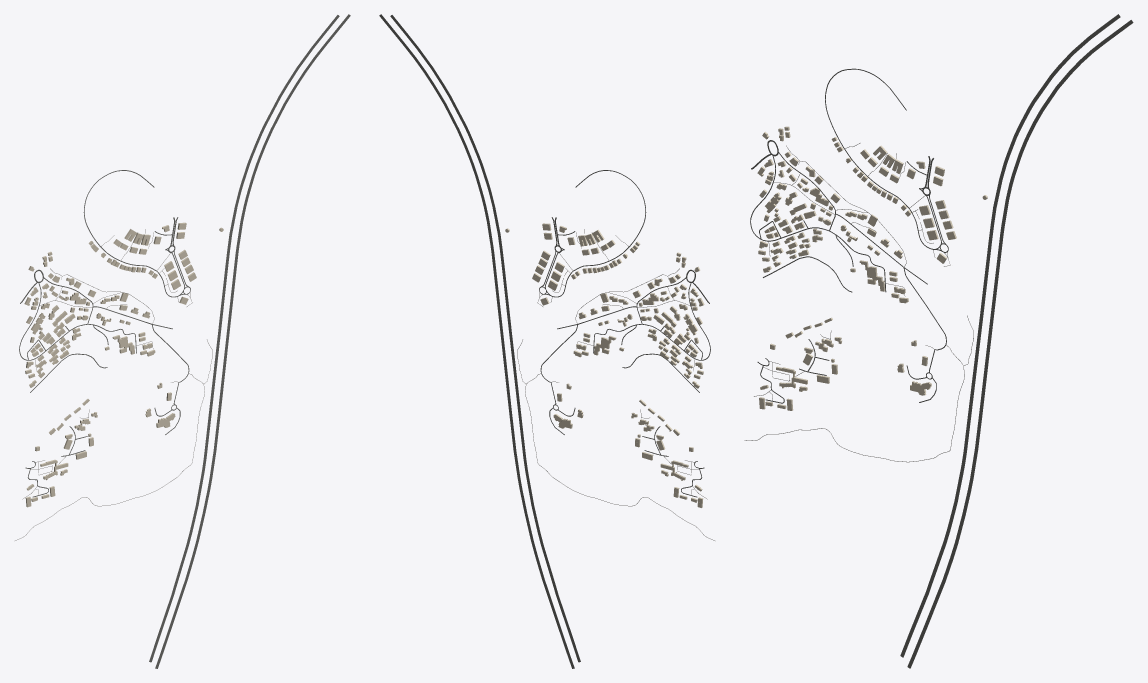
The model's file is historic-palestine-09_33_3510_3274.glb.
3 views of the same model, side by side, from view 1: azimuth 30°, elevation 25°; view 2: azimuth 150°, elevation 25°; view 3: azimuth 330°, elevation 25° (orthographic). The views are drawn at different scales.
Parts seen in each view (by area): view 1: Road כביש חוצה ישראל, Road כביש חוצה ישראל.001; view 2: Road כביש חוצה ישראל, Road כביש חוצה ישראל.001; view 3: Road כביש חוצה ישראל, Road כביש חוצה ישראל.001.
Part boxes in pixels (x1,y1,x2,y2): Road כביש חוצה ישראל: (155,14,350,668); Road כביש חוצה ישראל.001: (149,15,339,662); Road כביש חוצה ישראל: (379,14,574,668); Road כביש חוצה ישראל.001: (390,15,580,662); Road כביש חוצה ישראל: (907,20,1133,668); Road כביש חוצה ישראל.001: (900,14,1120,657).
Size of the model in its own units: 1399 by 2425 by 8.7.
